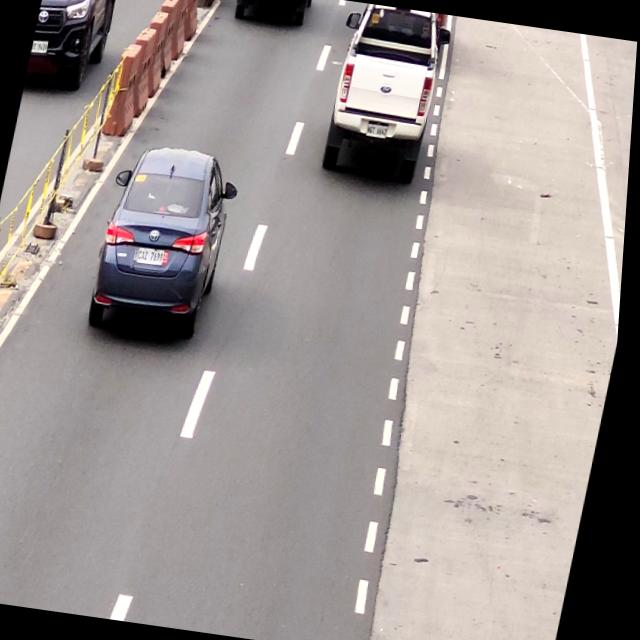Car: (90, 146, 242, 342), (320, 2, 451, 185)
License-Plate: (134, 242, 176, 269), (365, 122, 392, 143)
